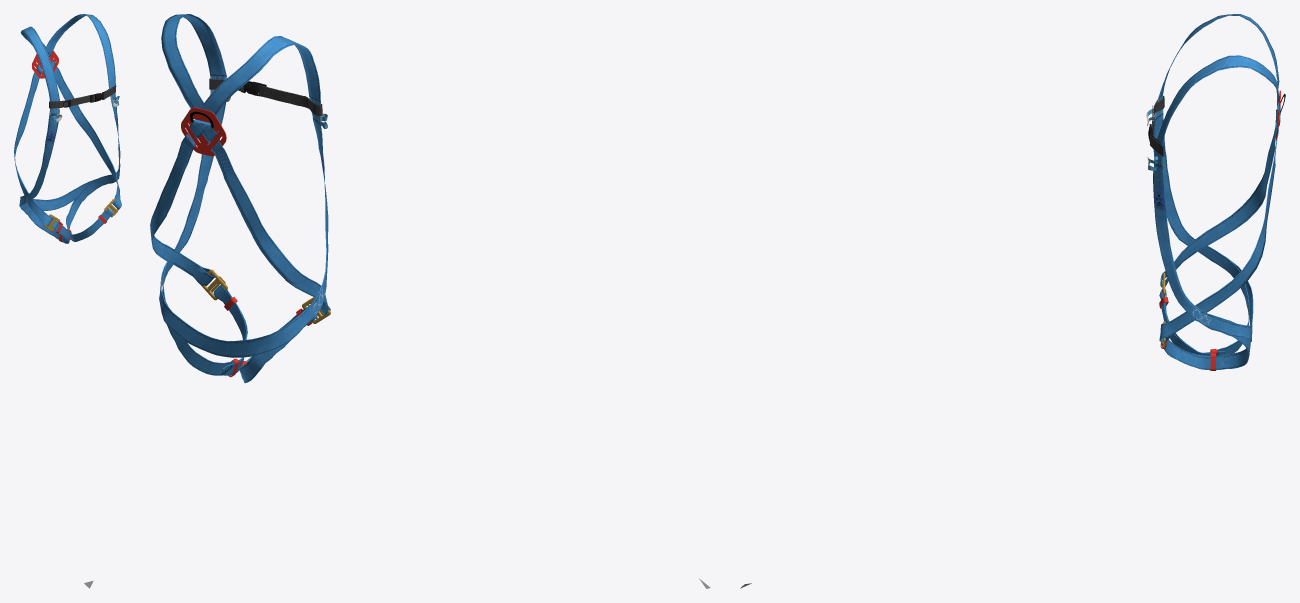
The picture shows the model from 3 angles, left to right: view 1: azimuth 30°, elevation 25°; view 2: azimuth 150°, elevation 25°; view 3: azimuth 270°, elevation 25°; orthographic projection. The views are drawn at different scales.
Parts seen in each view (by area): view 1: SM_PN15(IS)_blue_patti, SM_PN15(IS)_black_patti, SM_PN15(IS)_red_plastic, SM_PN15(IS)_gold_backle; view 2: SM_PN15(IS)_blue_patti, SM_PN15(IS)_red_plastic, SM_PN15(IS)_black_patti; view 3: SM_PN15(IS)_blue_patti.
Boxes of the visible parts, x1,y1,x2,y2 form: SM_PN15(IS)_blue_patti: [14, 14, 121, 243]; SM_PN15(IS)_black_patti: [49, 86, 116, 108]; SM_PN15(IS)_red_plastic: [32, 50, 106, 242]; SM_PN15(IS)_gold_backle: [43, 199, 119, 231]; SM_PN15(IS)_blue_patti: [150, 14, 330, 383]; SM_PN15(IS)_red_plastic: [181, 107, 312, 377]; SM_PN15(IS)_black_patti: [209, 78, 322, 115]; SM_PN15(IS)_blue_patti: [1153, 14, 1285, 370].
Bounding box in the file's own units: 31.71 × 71.78 × 54.52.
